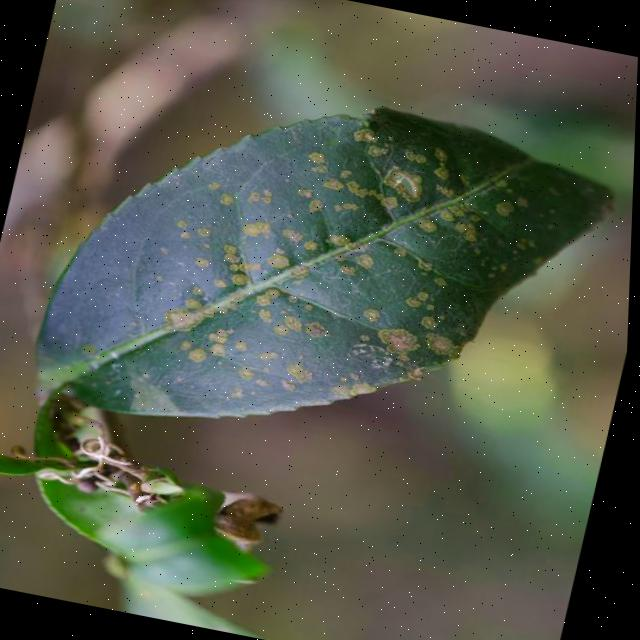Tea algae leaf spot: (144, 81, 598, 452)
